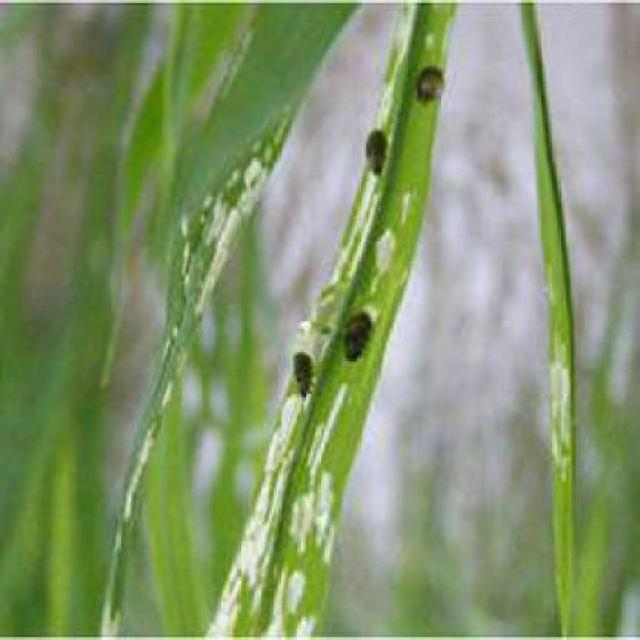rice-bug: (340, 309, 378, 368), (356, 120, 392, 178), (416, 59, 446, 110), (289, 343, 316, 397)
